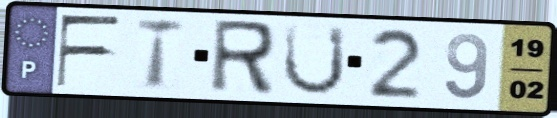2: (366, 27, 427, 102)
9: (442, 30, 491, 102)
F: (53, 13, 125, 90)
R: (206, 17, 279, 98)
T: (133, 16, 188, 92)
U: (279, 22, 349, 98)
